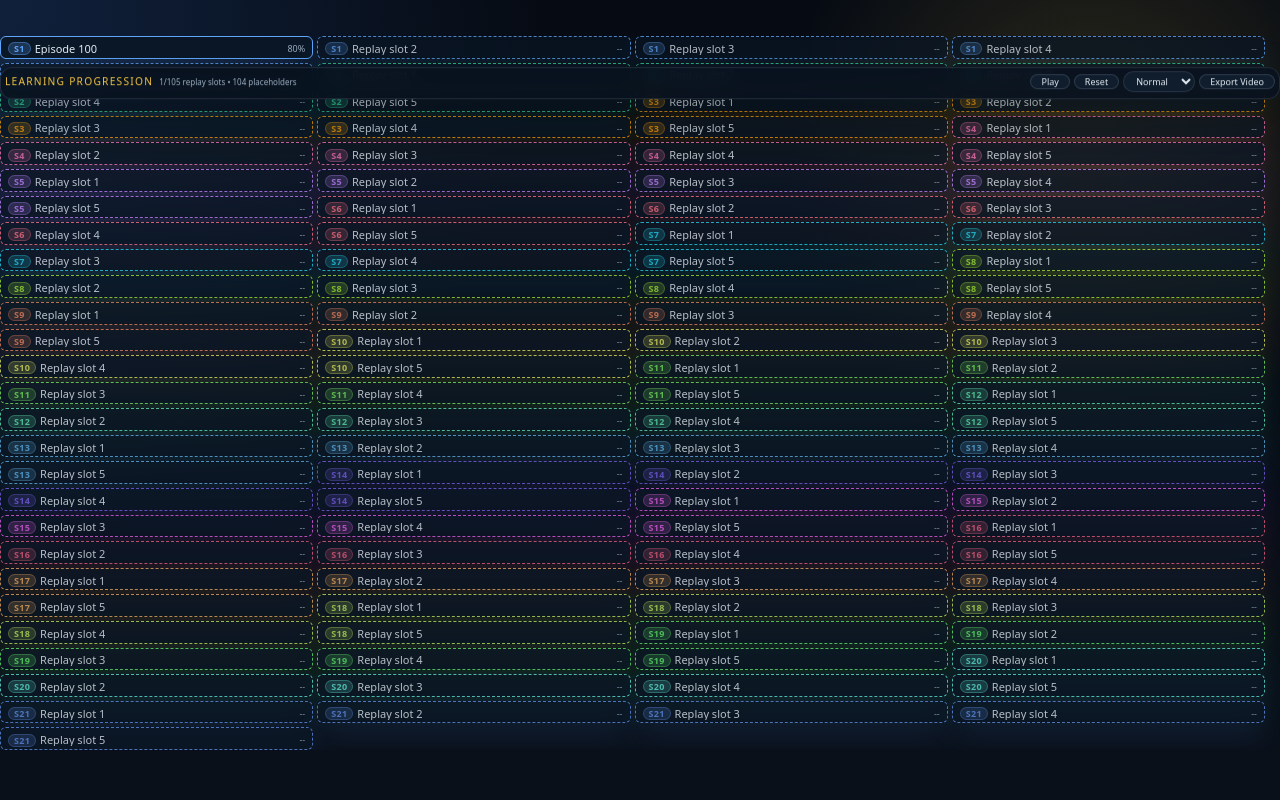
ResultsPanel › shows a clean error message if browser API is unsupported
Step 1. Click the button "Export Video" → (1237, 82), box [1199,74,1275,89]
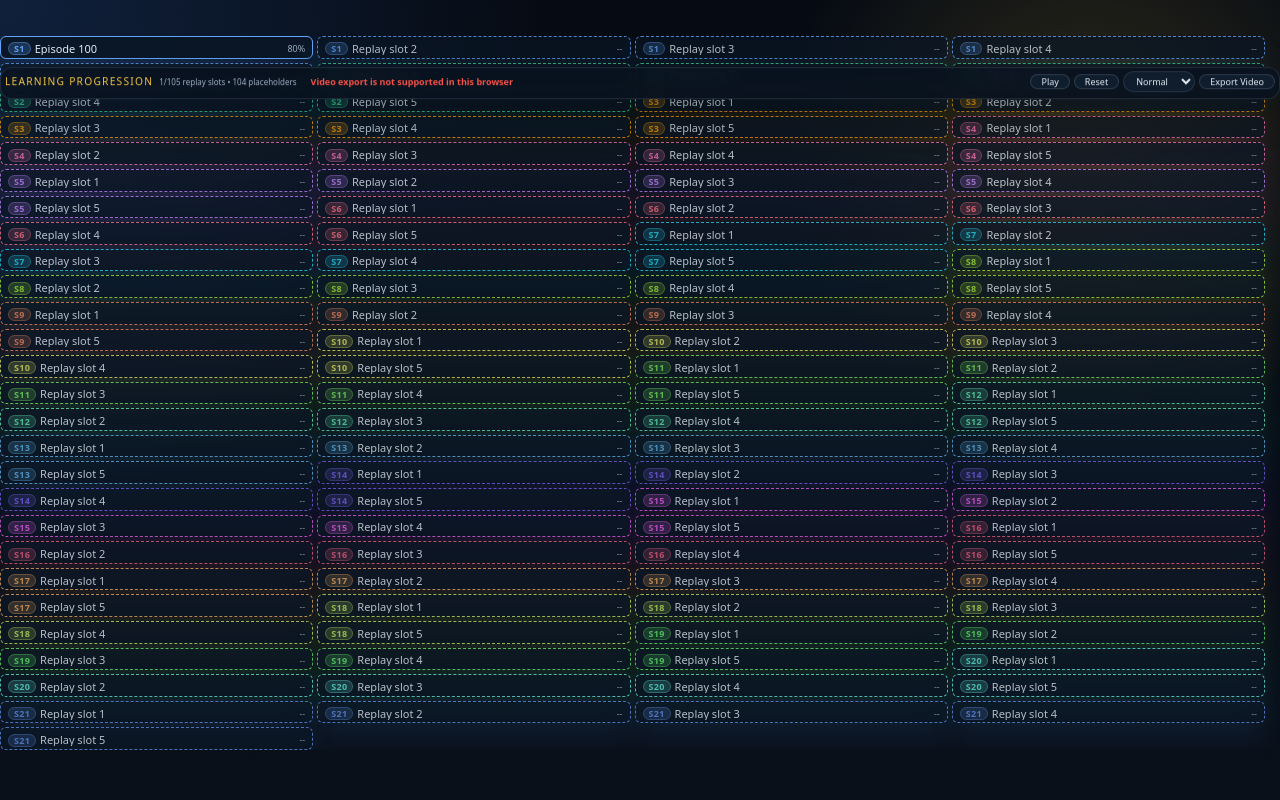
Expected: the text "Video export is not supported in this browser" is shown, [311,75,513,88]
